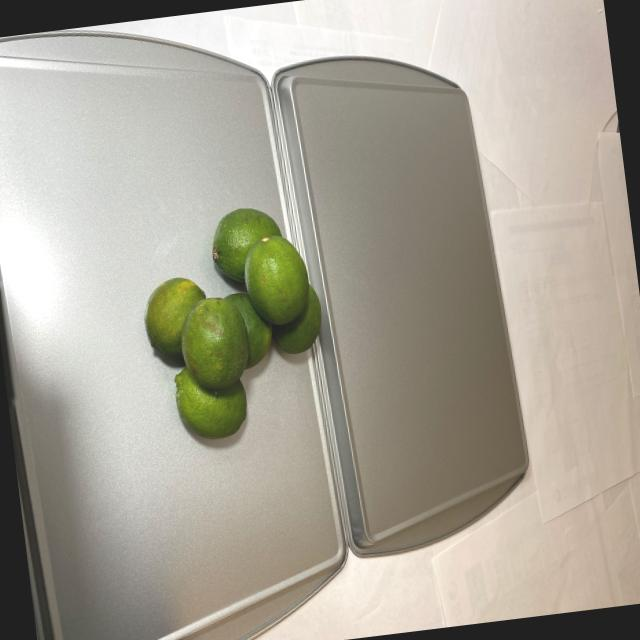lemon: (124, 185, 338, 452)
